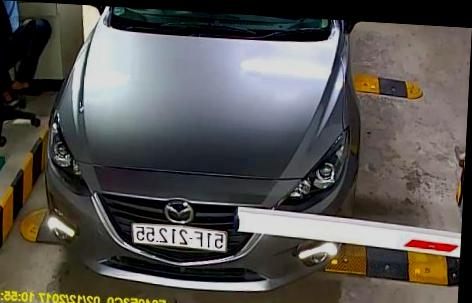License_Plate: (126, 220, 229, 254)
